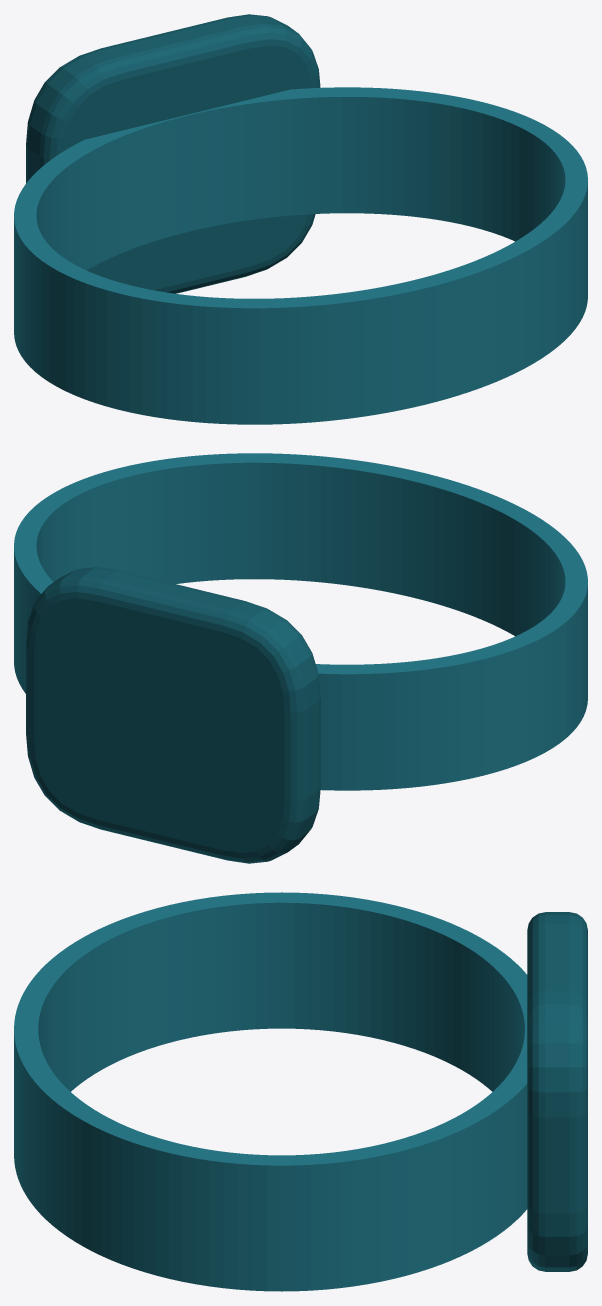
File: p12-Opaska NFC.glb
3 views of the same model, one above another, from view 1: azimuth 30°, elevation 25°; view 2: azimuth 150°, elevation 25°; view 3: azimuth 270°, elevation 25° (orthographic). The views are drawn at different scales.
Visible parts, largest first — view 1: Pasek silikonowy, Główka opaski (obudowa); view 2: Pasek silikonowy, Główka opaski (obudowa); view 3: Pasek silikonowy, Główka opaski (obudowa).
Boxes of the visible parts, bbox=[...] form: Pasek silikonowy: bbox=[14, 87, 587, 424]; Główka opaski (obudowa): bbox=[26, 14, 320, 293]; Pasek silikonowy: bbox=[14, 453, 587, 790]; Główka opaski (obudowa): bbox=[26, 567, 320, 863]; Pasek silikonowy: bbox=[14, 892, 527, 1291]; Główka opaski (obudowa): bbox=[527, 912, 587, 1271].
Size of the model in its own units: 0.0745 by 0.0342 by 0.0661.
